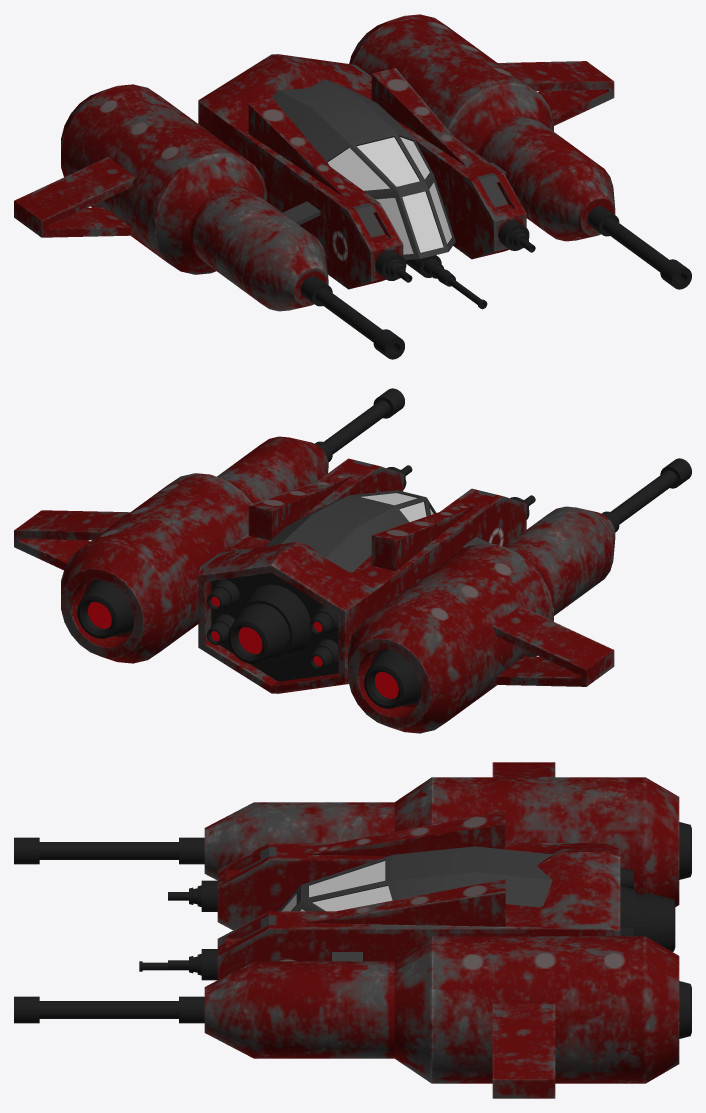
File: shiputilitarian.fbx
3 views of the same model, one above another, from view 1: azimuth 30°, elevation 25°; view 2: azimuth 150°, elevation 25°; view 3: azimuth 270°, elevation 25° (orthographic). The views are drawn at different scales.
Parts seen in each view (by area): view 1: Cube; view 2: Cube; view 3: Cube.
Part boxes in pixels (x1,y1,x2,y2): Cube: (14, 14, 691, 359); Cube: (14, 388, 691, 733); Cube: (14, 762, 691, 1098).
Bounding box in the file's own units: 900 × 208 × 812.
